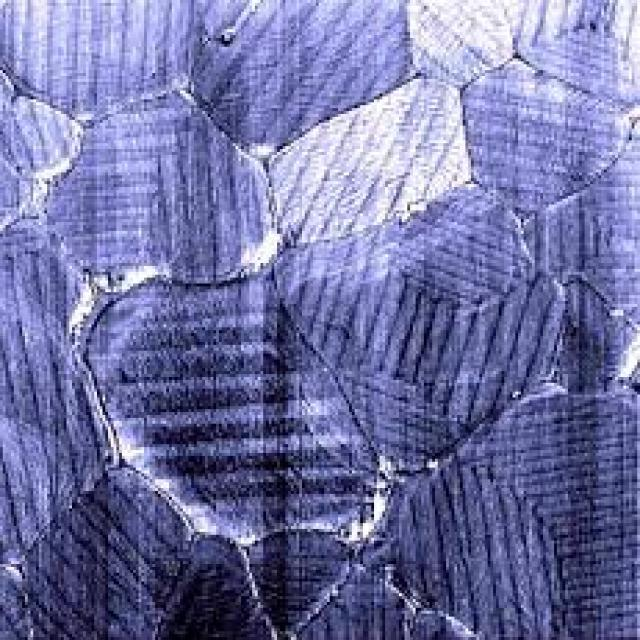no faulty: (16, 19, 616, 588)
